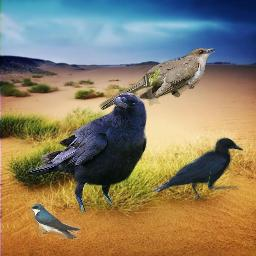Crow: (26, 92, 147, 214), (152, 137, 243, 201)
Cuckoo: (98, 47, 215, 110)
Swallow: (30, 203, 81, 239)
